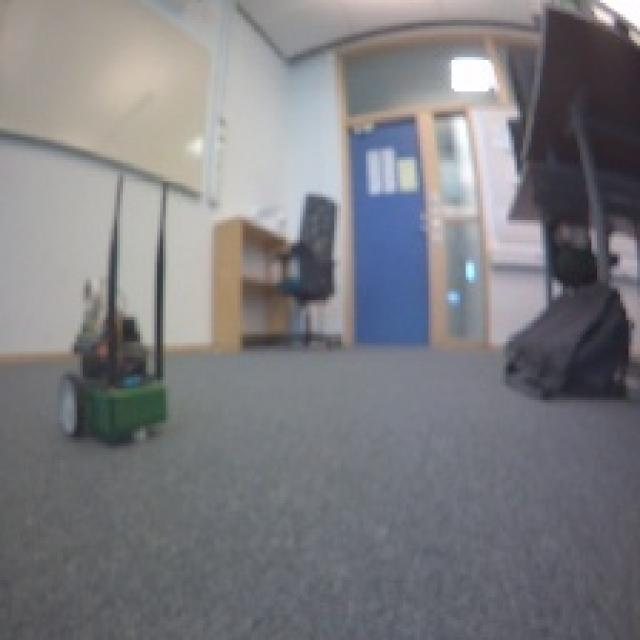robot: (52, 330, 172, 446)
